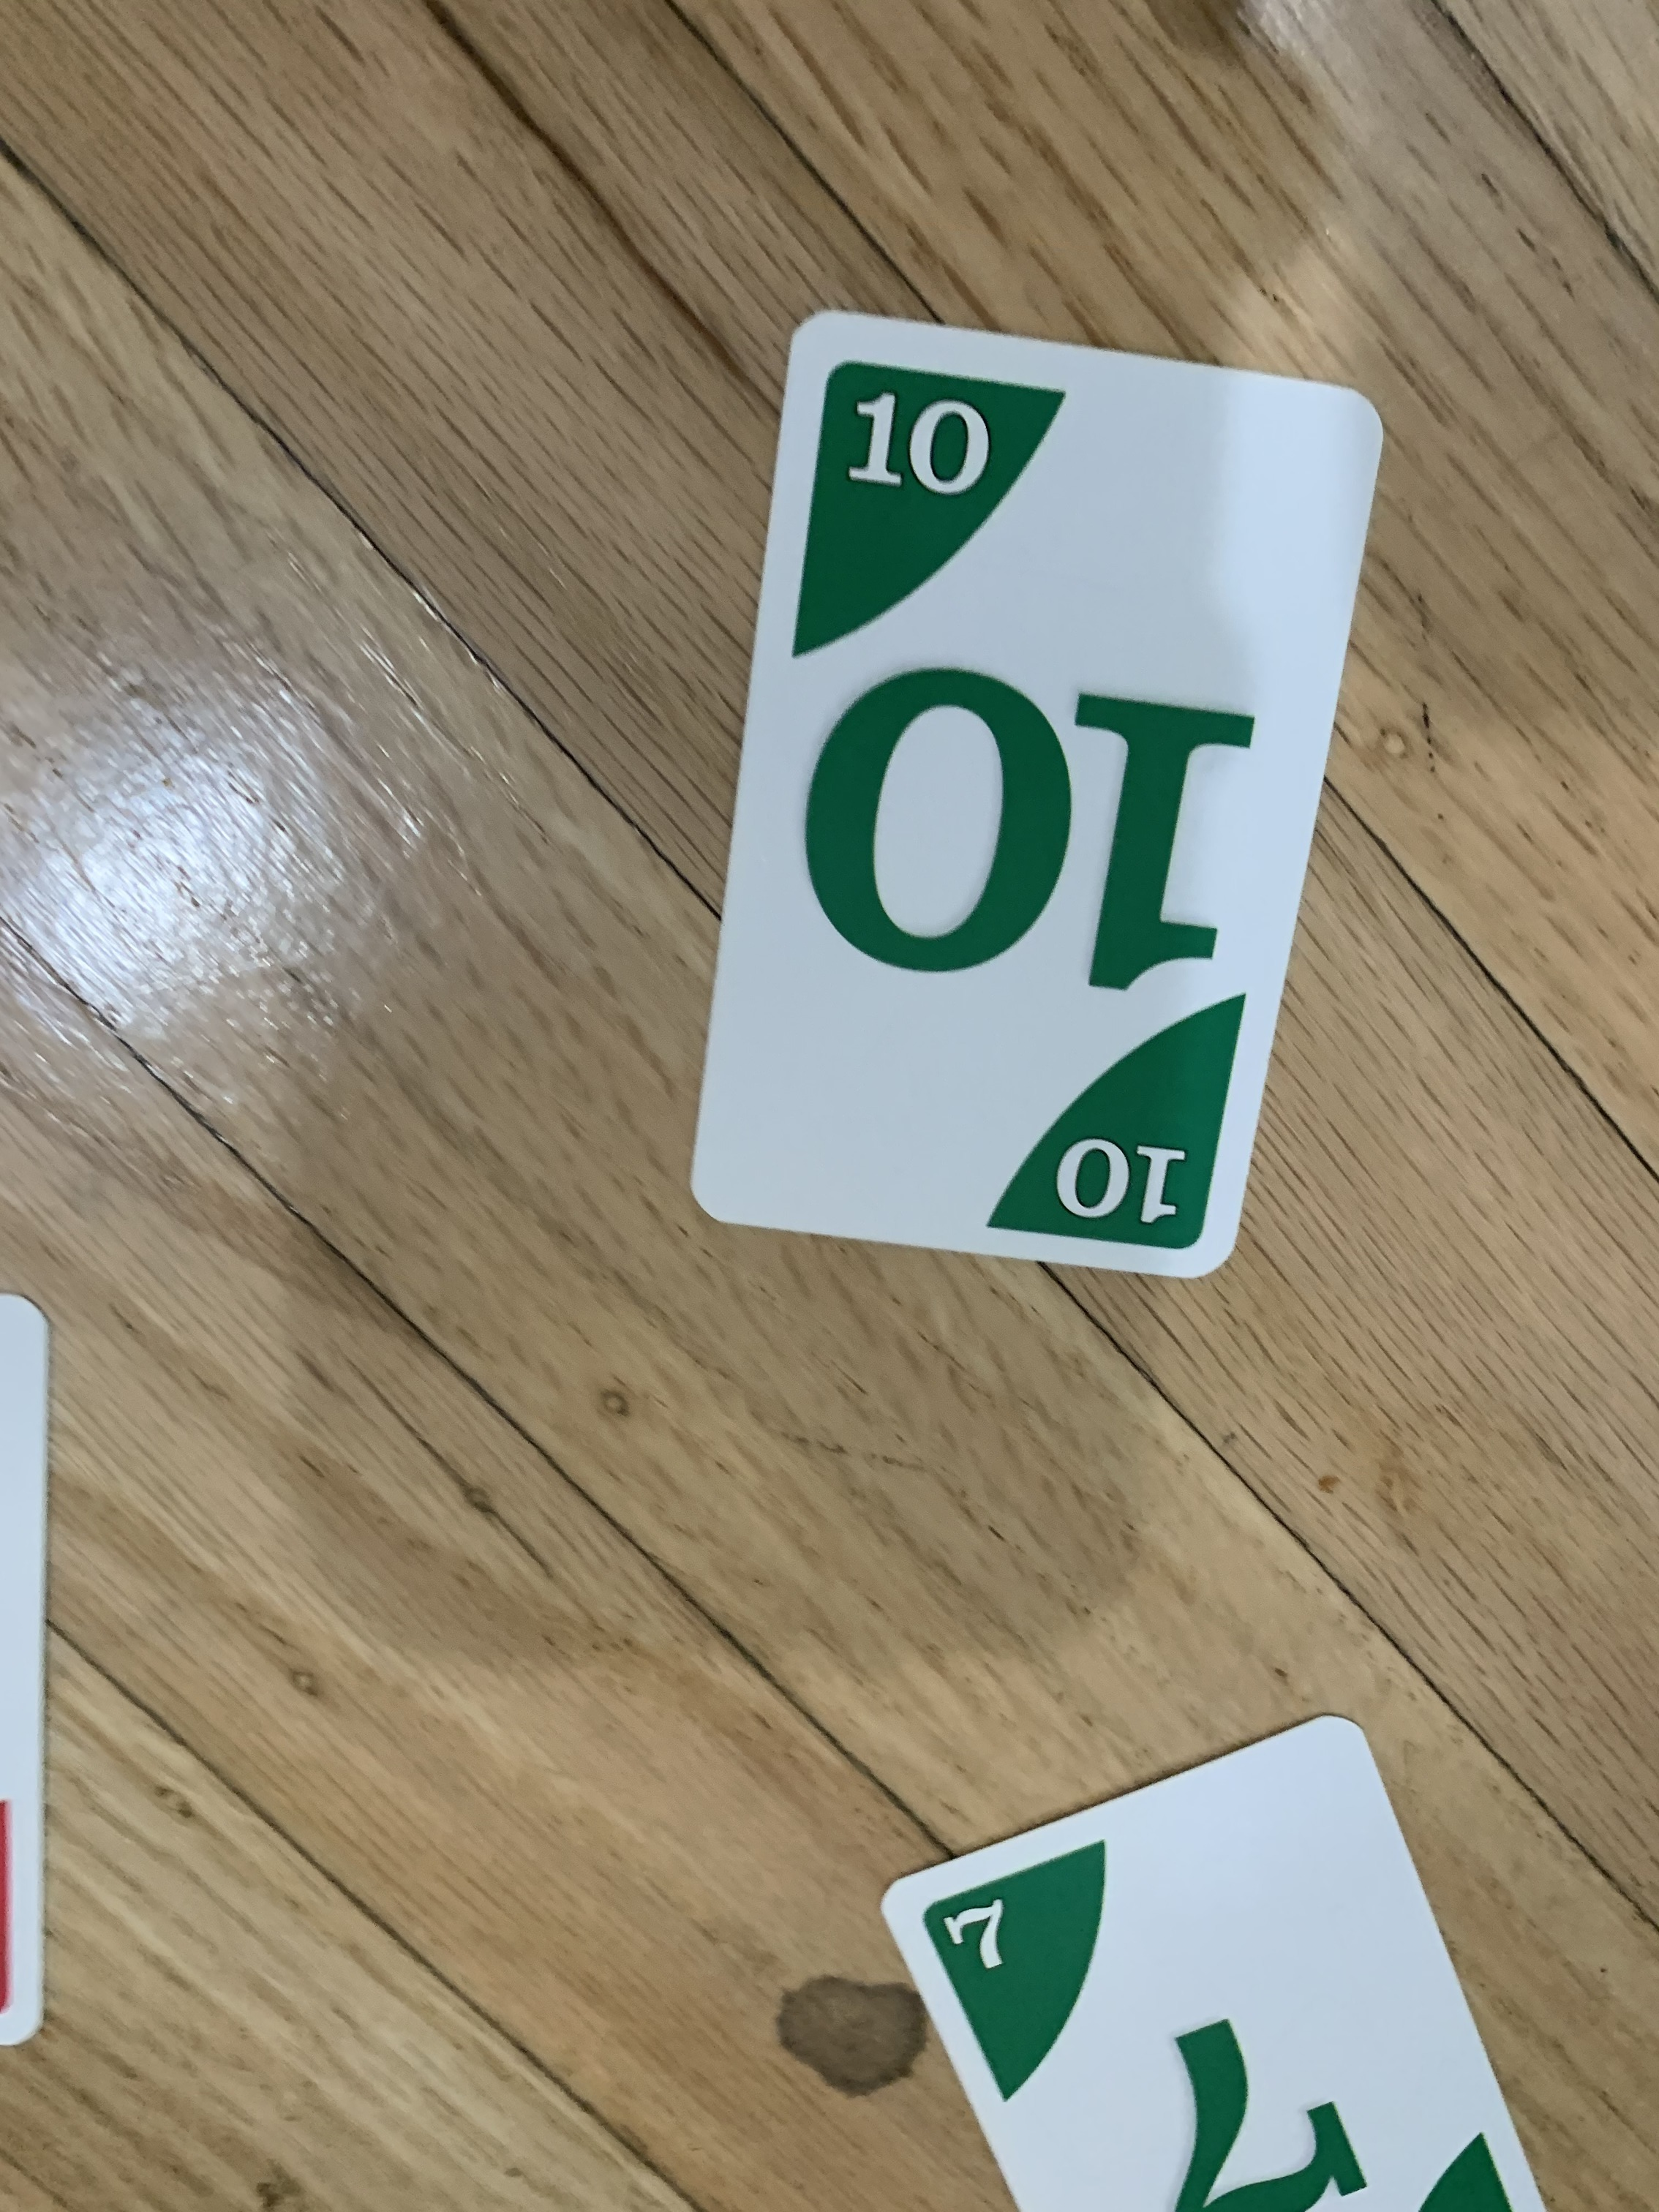ten: (678, 307, 1391, 1285)
